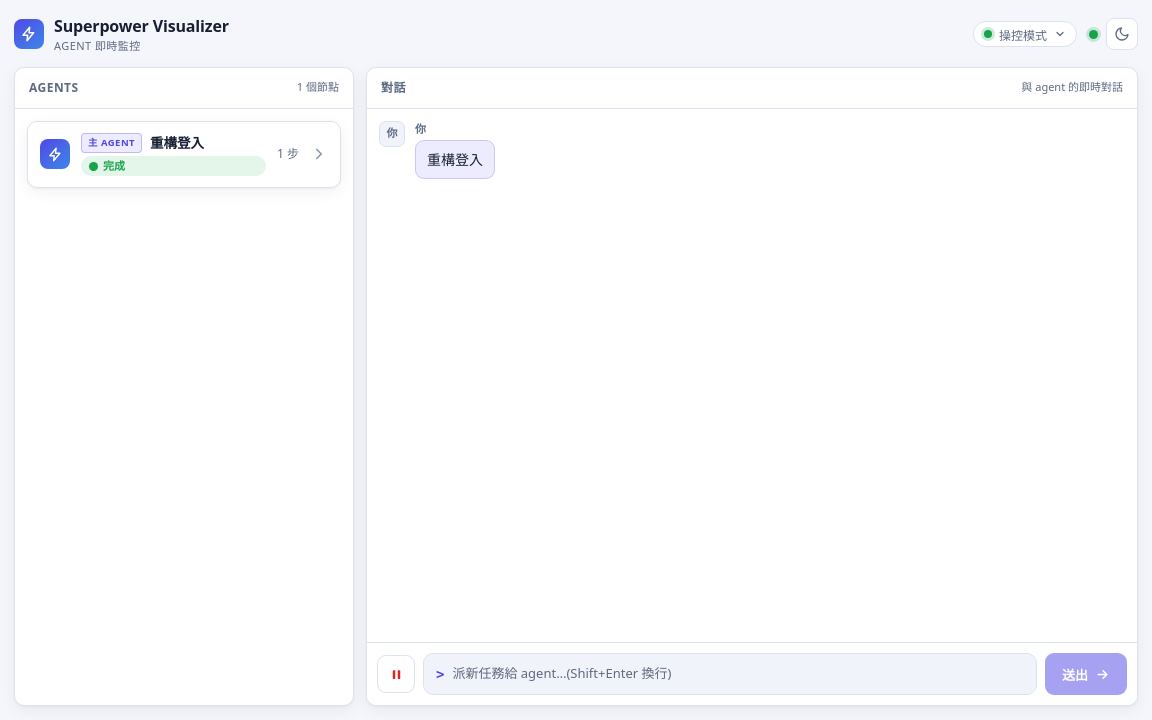
Test: App 整合流程(假 WebSocket 驅動) › 彈窗點「分析合理性」→ POST /analyze 帶 trace → 回傳後顯示判定
The width and height of the screenshot is (1152, 720).
Click the button "主 AGENT 重構登入 完成 1 步": (184,154) x1=27 y1=120 x2=341 y2=188
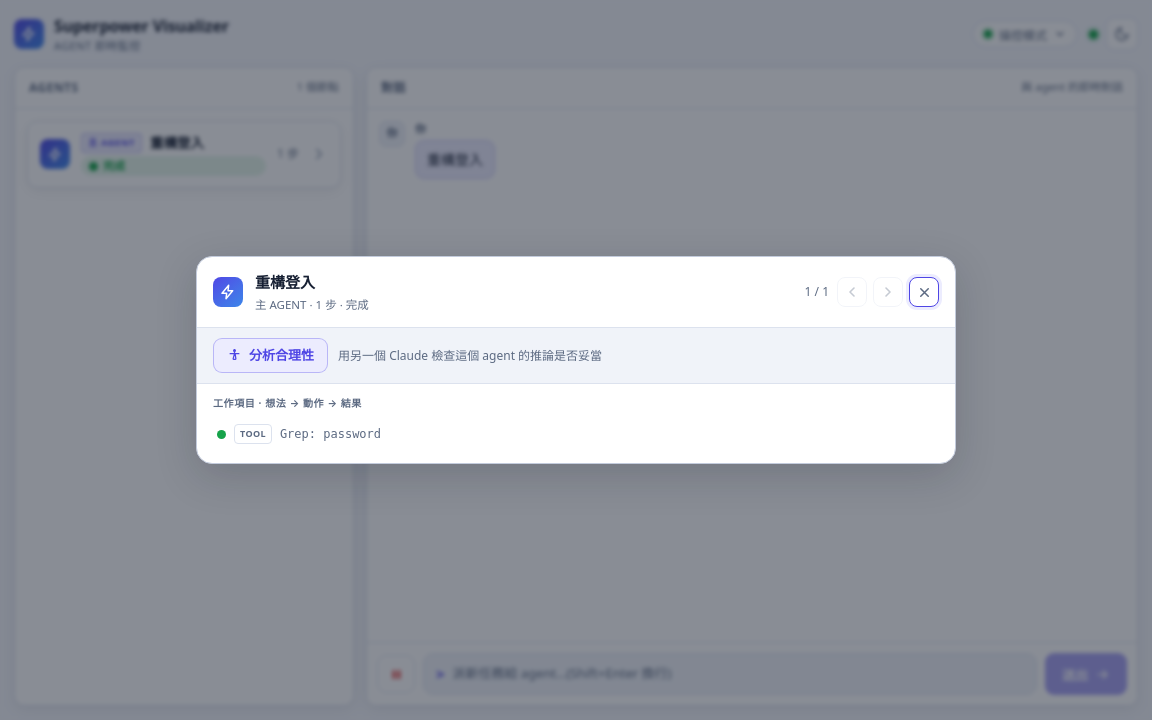
Click the button "分析合理性": (270,356) x1=213 y1=338 x2=328 y2=373
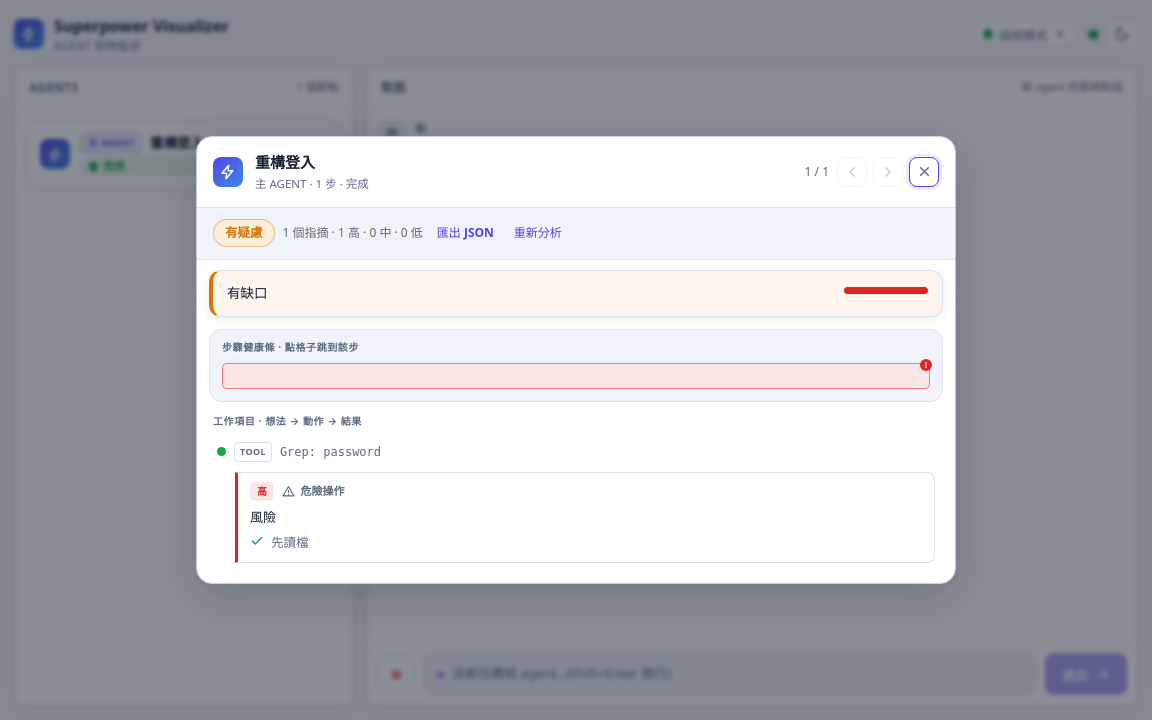
Result: the text "有缺口" is shown at x1=227 y1=284 x2=268 y2=302
Result: the text "有疑慮" is shown at x1=213 y1=219 x2=274 y2=248
